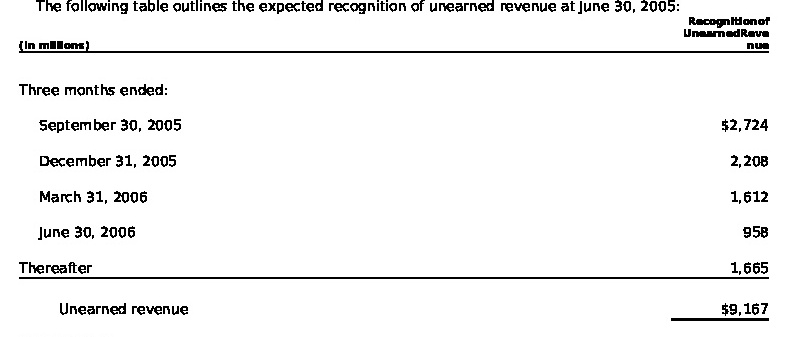table: (0, 0, 789, 337)
